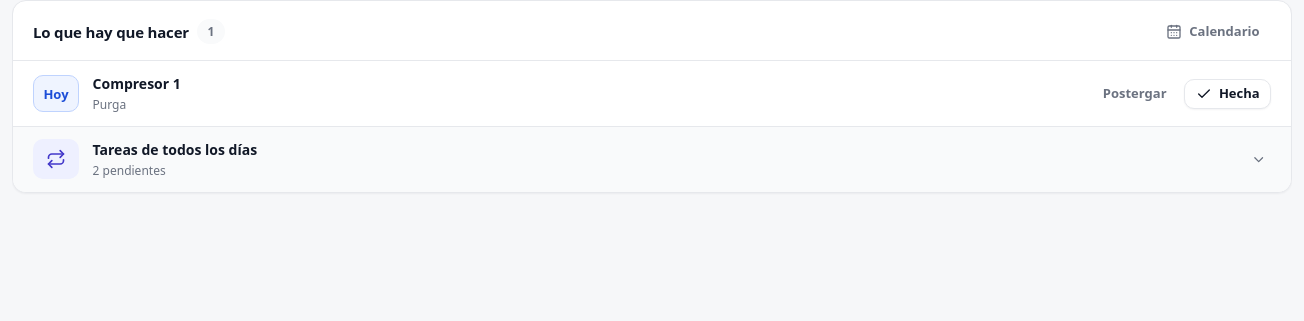
Test: MisTareasDeHoy › el service muestra primero el equipo, y las rutinas van juntas y plegadas
Expected: the text "Compresor 1" is shown, [93,74,181,93]
Expected: the text "Purga" is shown, [93,96,126,113]
Click the button "Tareas de todos los días 2 pendientes": (56, 159) [13,127,1291,192]
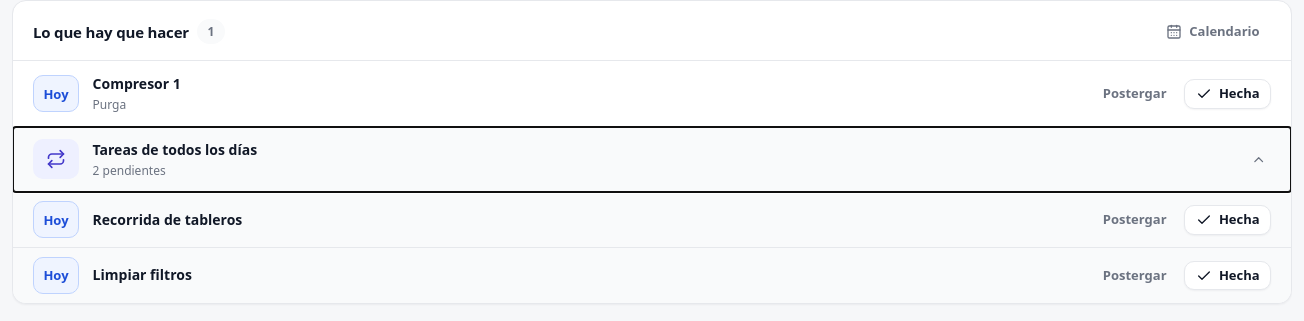
Result: the text "Recorrida de tableros" is shown at [93,210,242,229]
Result: the text "Limpiar filtros" is shown at [93,265,192,284]
